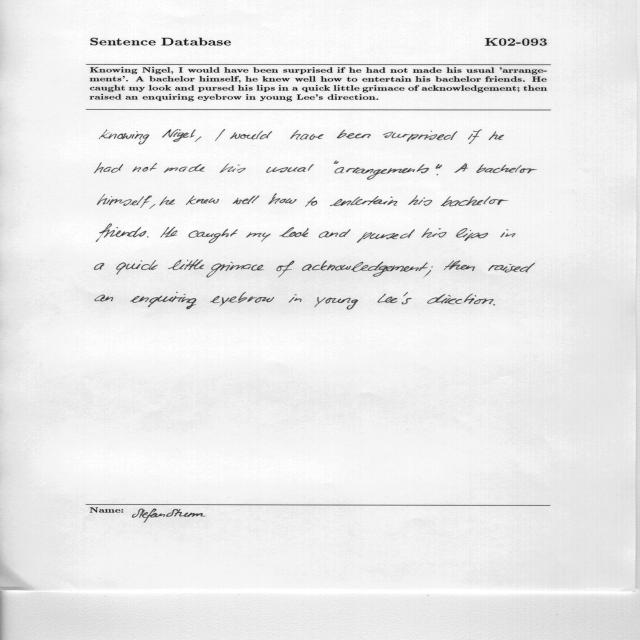word: (302, 260, 428, 277), (334, 164, 429, 180), (131, 292, 197, 309), (210, 292, 274, 307), (206, 262, 264, 278), (96, 224, 146, 242), (383, 131, 458, 142), (357, 229, 415, 243), (97, 194, 152, 208), (100, 130, 150, 145), (427, 294, 494, 305), (188, 229, 238, 243), (330, 196, 397, 206), (441, 196, 508, 206), (116, 260, 158, 274), (315, 297, 359, 310), (476, 165, 537, 174), (162, 129, 196, 142), (266, 164, 314, 173), (488, 263, 535, 272), (377, 292, 412, 304), (456, 228, 488, 241), (168, 259, 204, 270), (444, 260, 475, 271), (290, 130, 324, 140), (230, 131, 272, 139), (164, 164, 205, 172), (94, 163, 123, 174), (337, 130, 371, 139), (277, 261, 295, 278), (279, 227, 309, 237), (186, 196, 219, 205), (268, 194, 297, 204), (319, 229, 351, 238), (408, 195, 432, 206), (220, 163, 246, 173), (421, 228, 447, 238), (246, 232, 271, 242), (233, 196, 260, 205), (132, 163, 157, 172), (468, 129, 482, 144), (161, 227, 178, 237), (159, 197, 175, 206), (454, 163, 468, 173), (489, 131, 504, 140), (95, 295, 113, 302), (215, 129, 225, 141), (305, 197, 317, 207), (501, 229, 516, 237), (289, 294, 302, 303), (424, 266, 433, 277), (95, 263, 105, 270), (196, 137, 202, 142), (436, 164, 442, 169), (150, 204, 156, 209), (334, 161, 339, 164), (147, 236, 149, 238), (494, 304, 496, 305), (437, 174, 438, 175)
